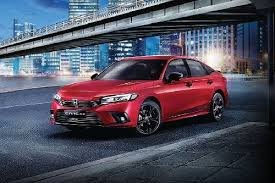mobil: (51, 52, 231, 133)
